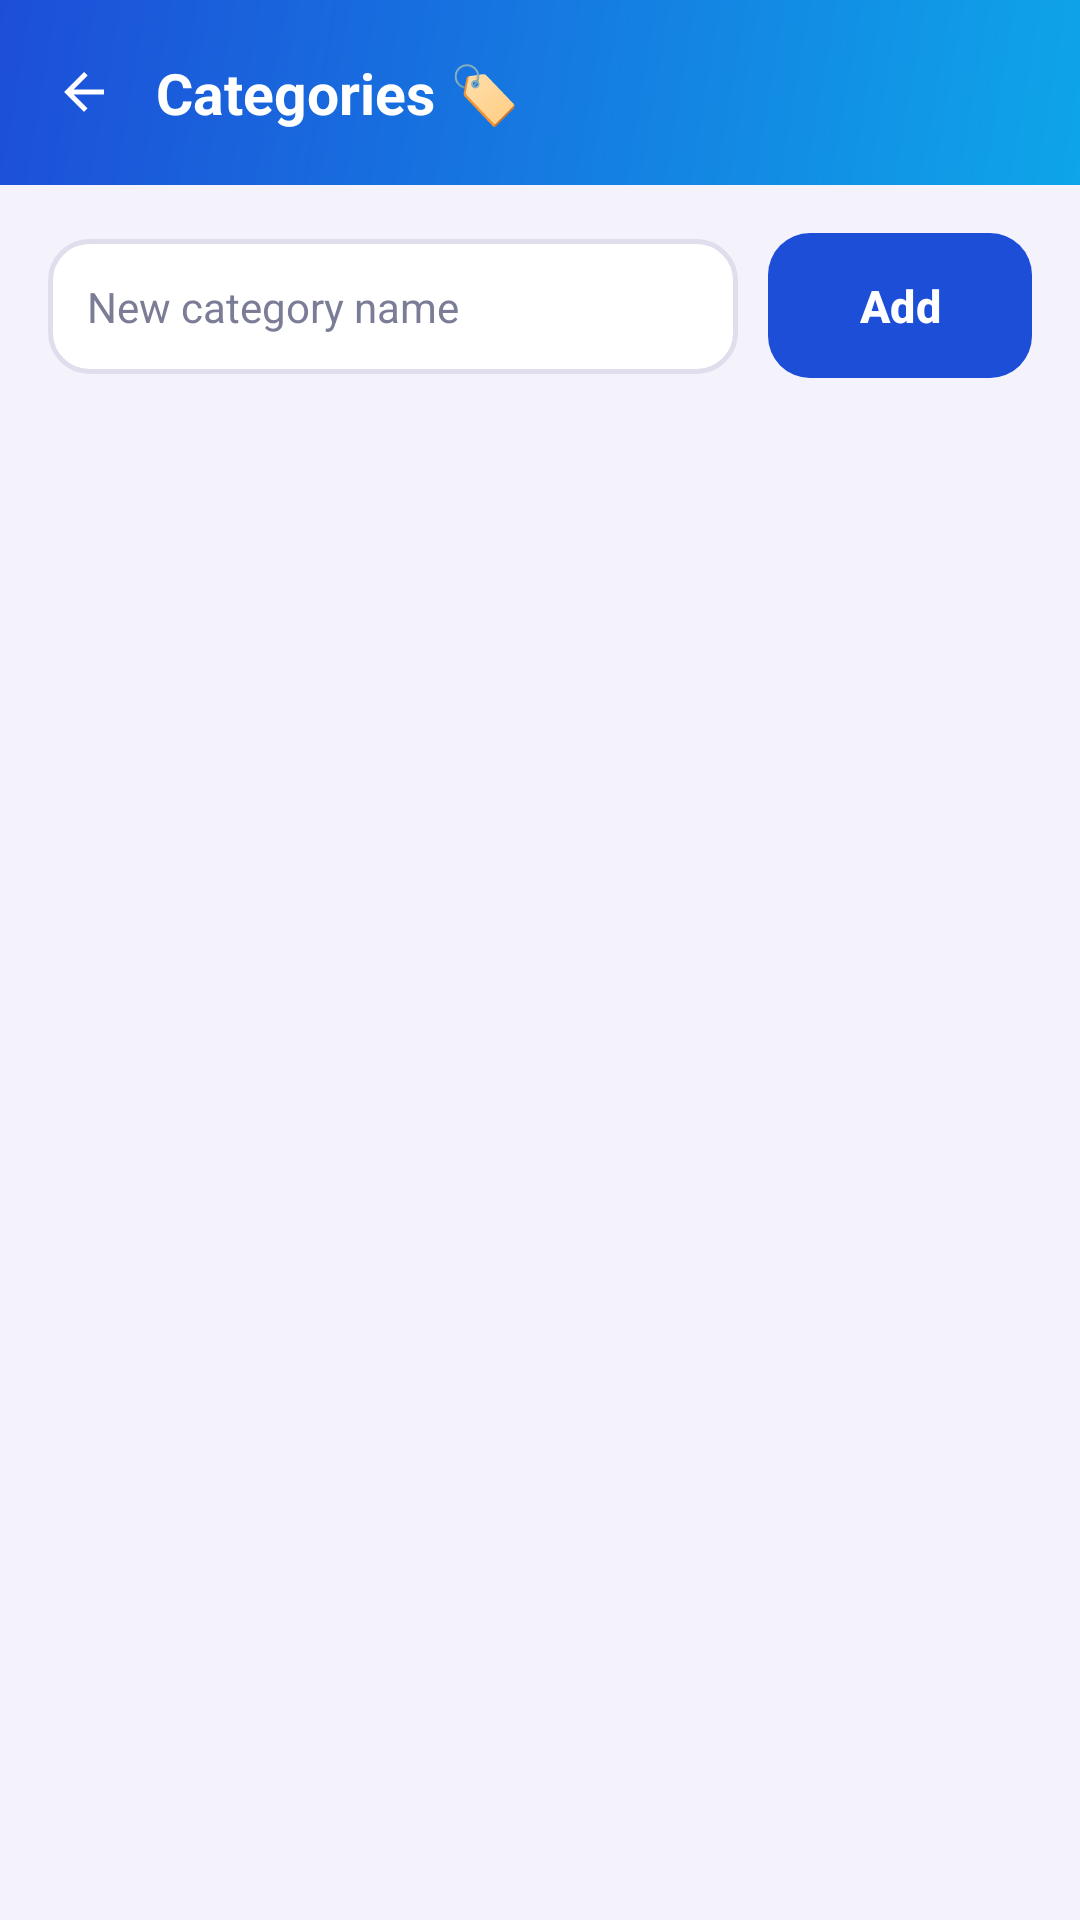

Where to tap for icons on this 1080px x 1920px app screen, as [x,y]:
arrow back: [84,92]
